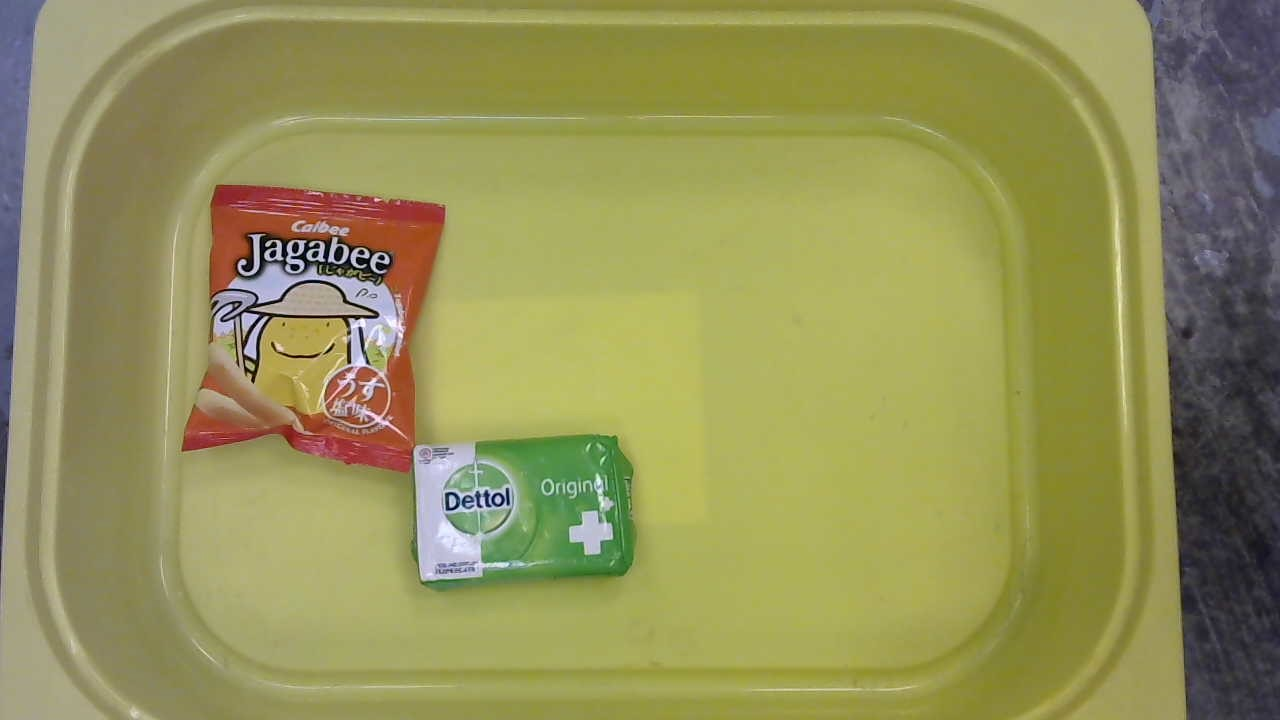Dettol: (407, 432, 641, 593)
JagabeeFarmer: (175, 179, 451, 476)
